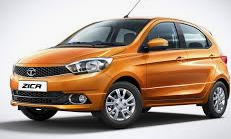car: (9, 17, 230, 128)
